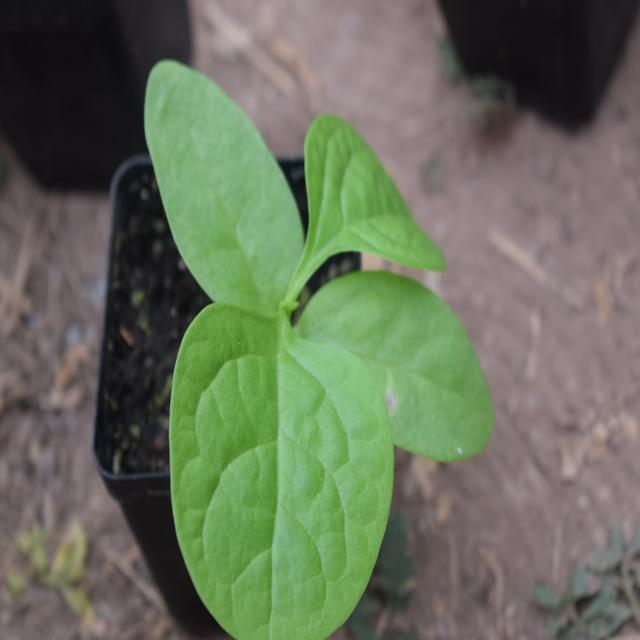Ceylon spinach: (137, 84, 490, 608)
